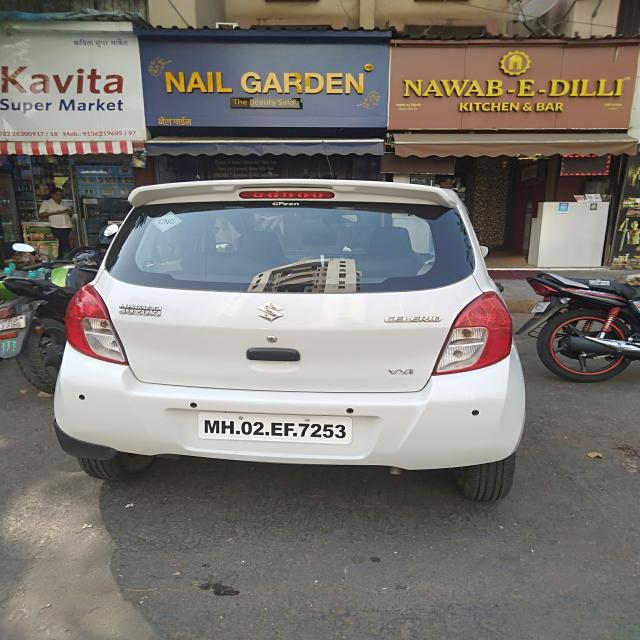Number-Plate: (202, 414, 351, 444)
